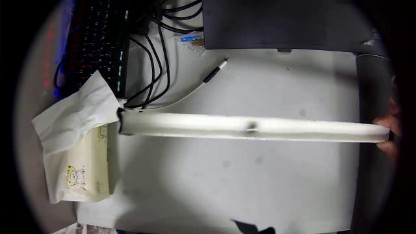gangzhu: (244, 122, 257, 132)
